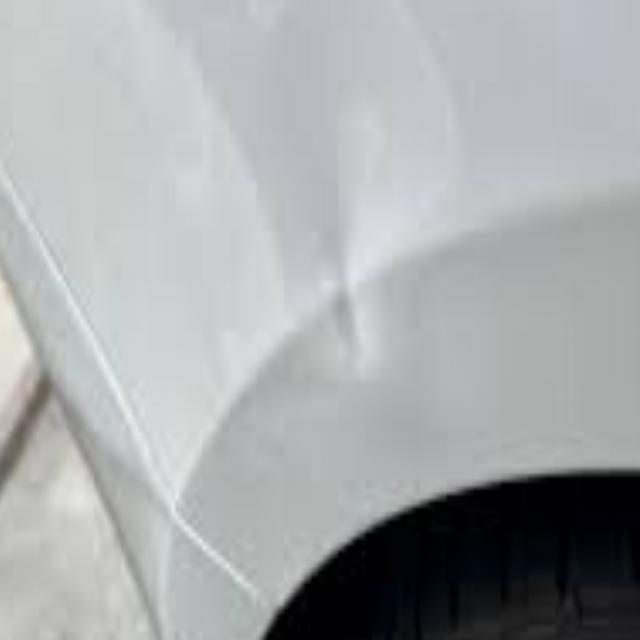dents: (308, 240, 396, 395)
